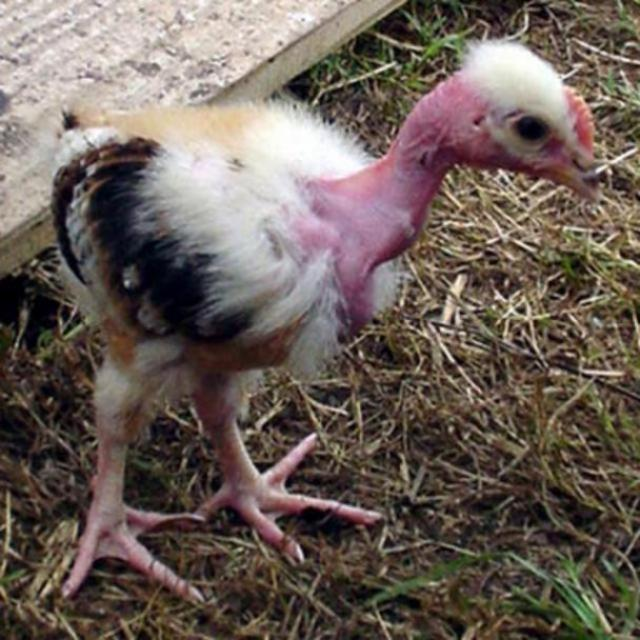Chicken: (57, 34, 607, 601)
